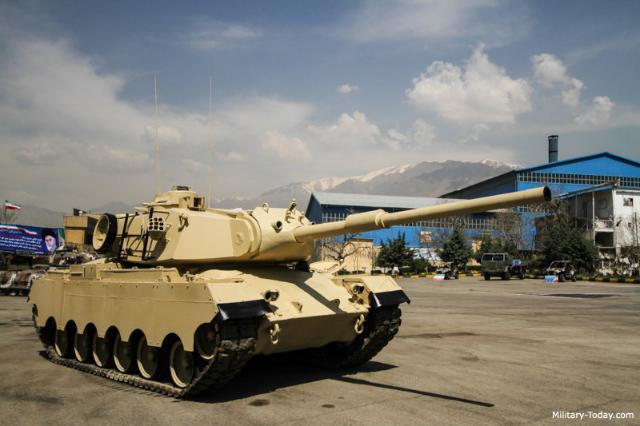tank: (36, 194, 402, 388)
